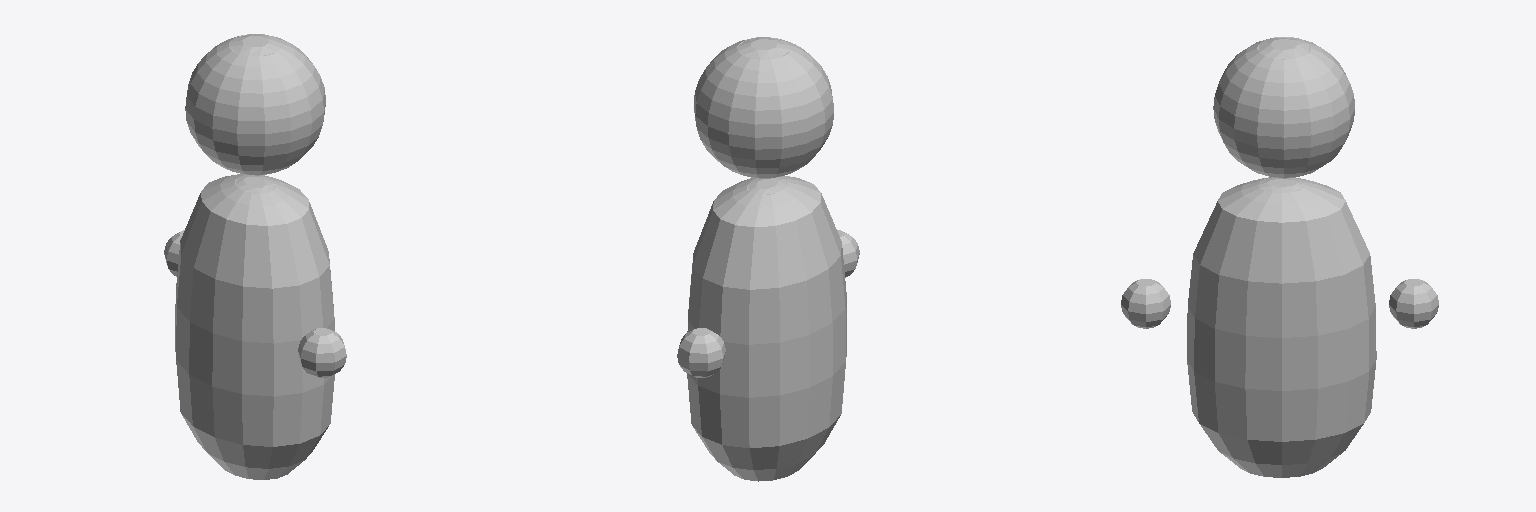
Rendered from citizen.obj.
The picture shows the model from 3 angles: view 1: azimuth 30°, elevation 25°; view 2: azimuth 150°, elevation 25°; view 3: azimuth 270°, elevation 25°; orthographic projection.
Visible parts, largest first — view 1: Cylinder_Cylinder.001; view 2: Cylinder_Cylinder.001; view 3: Cylinder_Cylinder.001.
Boxes of the visible parts, x1,y1,x2,y2 form: Cylinder_Cylinder.001: [164, 34, 346, 479]; Cylinder_Cylinder.001: [677, 37, 859, 481]; Cylinder_Cylinder.001: [1121, 37, 1438, 477].
Size of the model in its own units: 1.05 by 3.23 by 2.19.